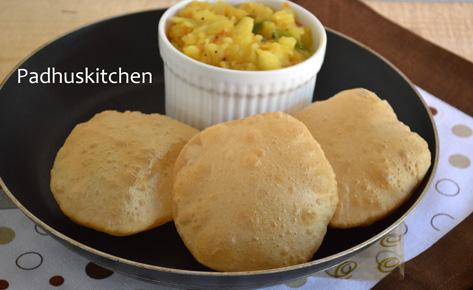puri: (34, 105, 428, 275)
